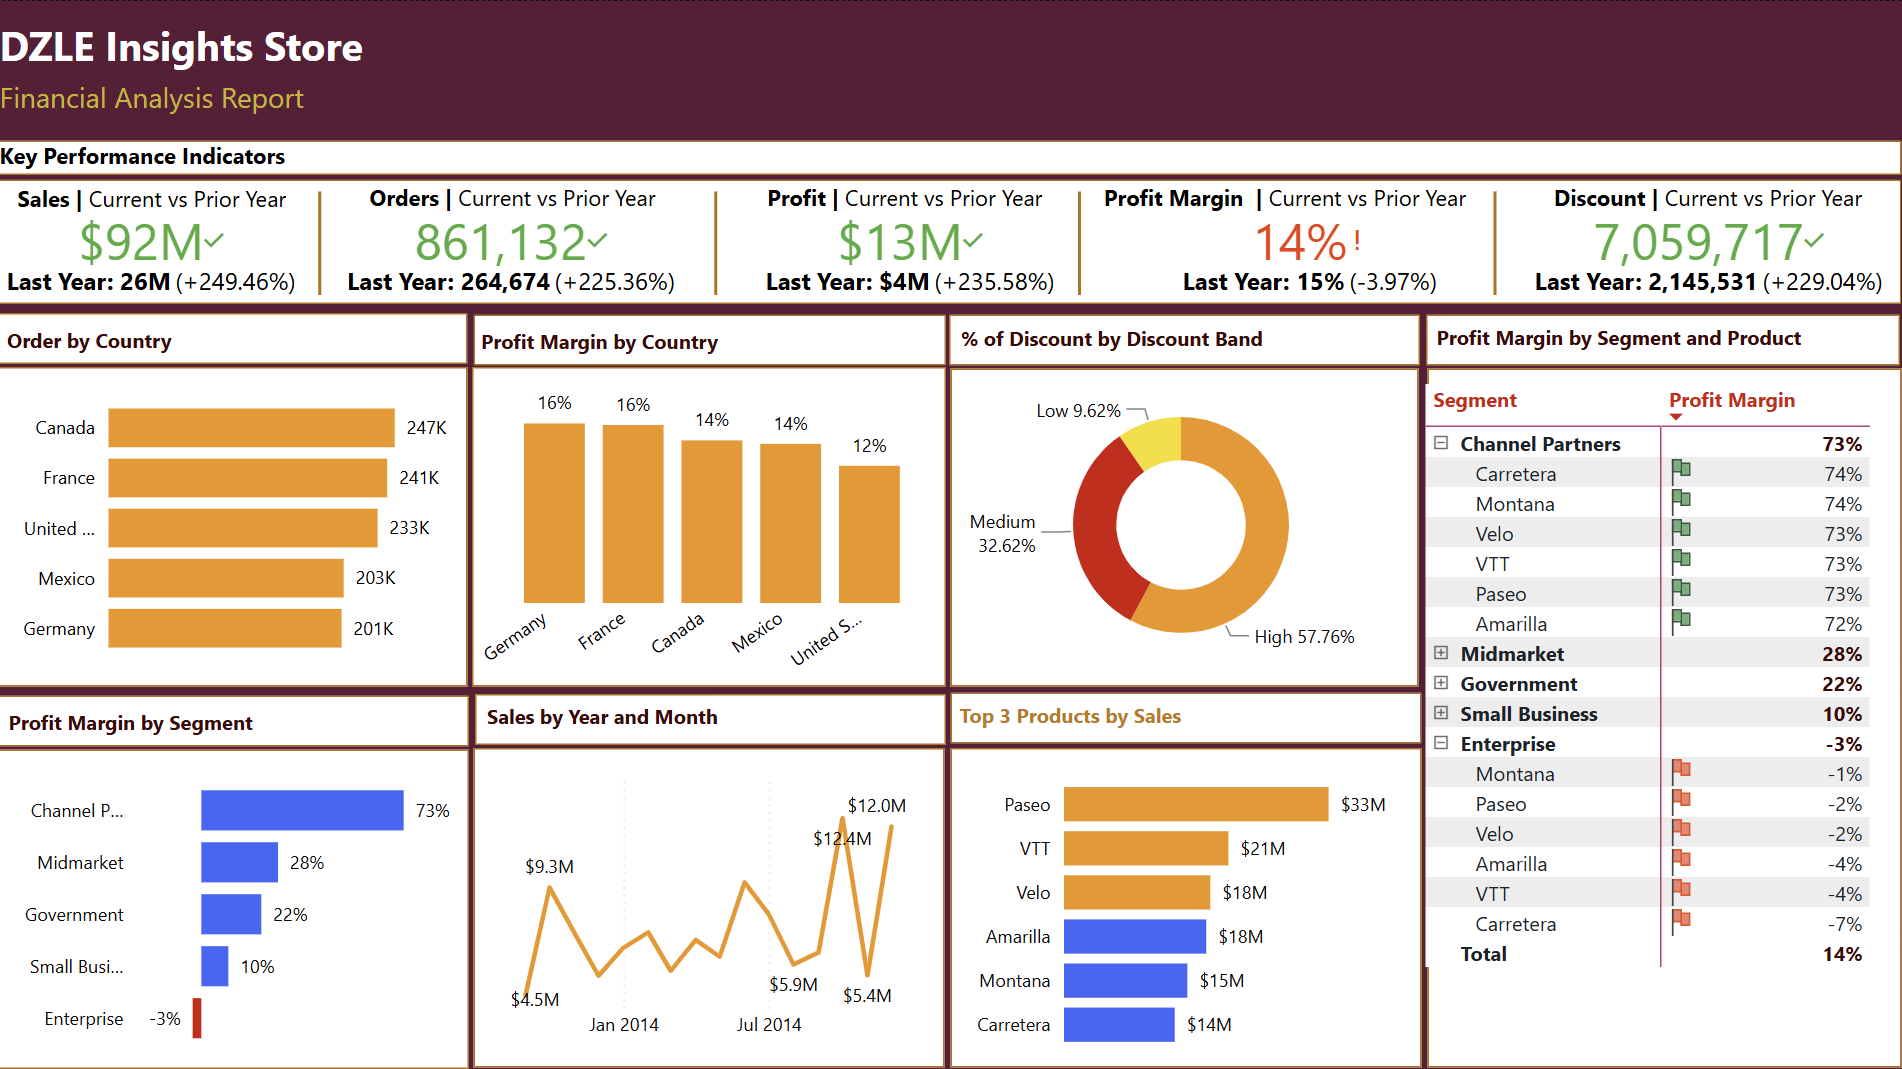

Layout of this report page (visuals, bound fields, positions):
{"tool":"powerbi","page":{"name":"Sales Performance","canvas":[1280,720],"ordinal":0},"visuals":[{"type":"shape","box":[3,93,1270,23],"z":0},{"type":"shape","box":[2,119,1271,83],"z":1000},{"type":"shape","box":[3,208.2,313.8,34.2],"z":2000},{"type":"shape","box":[320.8,209.2,314.8,34.2],"z":3000},{"type":"shape","box":[637.7,209.2,314.8,34.2],"z":4000},{"type":"shape","box":[956,209,316,34],"z":5000},{"type":"shape","box":[3,244,314,213],"z":6000},{"type":"shape","box":[320,244,316,213],"z":7000},{"type":"shape","box":[639,245,312,212],"z":8000},{"type":"shape","box":[957,245,316,466],"z":9000},{"type":"textbox","box":[0,5.9,308.3,45.7],"z":10000},{"type":"textbox","box":[0,45.7,249.7,41],"z":11000},{"type":"textbox","box":[0,87,250,41],"z":12000},{"type":"kpi","fields":{"Indicator":["Analysis.Sales Amount"],"TrendLine":["Dates Table.Year"],"Goal":["Analysis.Sales Amount LY"]},"box":[3.1,137.4,205.8,64.1],"z":13000},{"type":"textbox","box":[4.1,115.8,204.7,41.4],"z":14000},{"type":"shape","box":[165,127,107,69],"z":15000},{"type":"kpi","fields":{"TrendLine":["Dates Table.Year"],"Indicator":["Analysis.Orders"],"Goal":["Analysis.Orders LY"]},"box":[216.6,137.4,258.5,64.1],"z":16000},{"type":"textbox","box":[218.2,114.8,257.4,41.4],"z":17000},{"type":"shape","box":[434,127,97,69],"z":18000},{"type":"kpi","fields":{"TrendLine":["Dates Table.Year"],"Goal":["Analysis.Profit LY"],"Indicator":["Analysis.Profit"]},"box":[482.8,137.4,258.5,64.1],"z":19000},{"type":"textbox","box":[479.7,114.8,257.4,41.4],"z":20000},{"type":"shape","box":[677,127,96,69],"z":21000},{"type":"kpi","fields":{"TrendLine":["Dates Table.Year"],"Goal":["Analysis.Profit Margin LY"],"Indicator":["Analysis.Profit Margin"]},"box":[749.1,137.4,258.5,64.1],"z":22000},{"type":"textbox","box":[733.1,114.8,257.4,41.4],"z":23000},{"type":"kpi","fields":{"TrendLine":["Dates Table.Year"],"Indicator":["Analysis.Discount Offered"],"Goal":["Analysis.Discount Offered LY"]},"box":[1015.3,137.4,258.5,64.1],"z":24000},{"type":"textbox","box":[1015.3,114.8,257.4,41.4],"z":25000},{"type":"shape","box":[954,127,96,69],"z":26000},{"type":"barChart","fields":{"Category":["financials.Country"],"Y":["Analysis.Orders"]},"box":[4,245.4,304.7,204.2],"z":27000},{"type":"textbox","box":[5,211.2,303.7,31.2],"z":28000},{"type":"clusteredColumnChart","fields":{"Y":["Analysis.Profit Margin"],"Category":["financials.Country"]},"box":[319,242,314,215],"z":29000},{"type":"textbox","box":[320.8,212.2,311.8,31.2],"z":30000},{"type":"textbox","box":[640.7,210.2,311.8,31.2],"z":31000},{"type":"donutChart","fields":{"Category":["financials.Discount Band"],"Y":["Analysis.Discount Offered"]},"box":[642,247,302,204],"z":32000},{"type":"shape","box":[4,463,314,34],"z":33000},{"type":"shape","box":[4,499,314,213],"z":34000},{"type":"shape","box":[322,462,314,34],"z":35000},{"type":"shape","box":[321,498,314,213],"z":36000},{"type":"shape","box":[639,461,314,34],"z":37000},{"type":"shape","box":[639,498,314,213],"z":38000},{"type":"barChart","fields":{"Category":["financials.Segment"],"Y":["Analysis.Profit Margin"]},"box":[6,499,313,212],"z":39000},{"type":"textbox","box":[6,466,304,31],"z":40000},{"type":"barChart","fields":{"Category":["financials.Product"],"Y":["Analysis.Sales Amount"]},"box":[647,499,300,212],"z":41000},{"type":"textbox","box":[325,462,304,31],"z":42000},{"type":"textbox","box":[640,461,304,31],"z":43000},{"type":"lineChart","fields":{"Category":["Dates Table.Date.Variation.Date Hierarchy.Year","Dates Table.Date.Variation.Date Hierarchy.Month"],"Y":["Analysis.Sales Amount"]},"box":[327,506,300,194],"z":44000},{"type":"pivotTable","fields":{"Rows":["financials.Segment","financials.Product"],"Values":["Analysis.Profit Margin"]},"box":[951,250,313,461],"z":45000},{"type":"textbox","box":[958,209,311,31],"z":46000}]}

Visuals, with their boxes in screenshot pixels (x1, y1, x2, y2), scaled from the page's 1280x720 canvas onto the 1902x1069 screenshot:
shape: [x1=4, y1=138, x2=1892, y2=172]
shape: [x1=3, y1=177, x2=1892, y2=300]
shape: [x1=4, y1=309, x2=471, y2=360]
shape: [x1=477, y1=311, x2=944, y2=361]
shape: [x1=948, y1=311, x2=1415, y2=361]
shape: [x1=1421, y1=310, x2=1890, y2=361]
shape: [x1=4, y1=362, x2=471, y2=679]
shape: [x1=476, y1=362, x2=945, y2=679]
shape: [x1=950, y1=364, x2=1413, y2=679]
shape: [x1=1422, y1=364, x2=1892, y2=1056]
textbox: [x1=0, y1=9, x2=458, y2=77]
textbox: [x1=0, y1=68, x2=371, y2=129]
textbox: [x1=0, y1=129, x2=371, y2=190]
kpi - Analysis.Sales Amount x Dates Table.Year: [x1=5, y1=204, x2=310, y2=299]
textbox: [x1=6, y1=172, x2=310, y2=233]
shape: [x1=245, y1=189, x2=404, y2=291]
kpi - Dates Table.Year x Analysis.Orders: [x1=322, y1=204, x2=706, y2=299]
textbox: [x1=324, y1=170, x2=707, y2=232]
shape: [x1=645, y1=189, x2=789, y2=291]
kpi - Dates Table.Year x Analysis.Profit LY: [x1=717, y1=204, x2=1102, y2=299]
textbox: [x1=713, y1=170, x2=1095, y2=232]
shape: [x1=1006, y1=189, x2=1149, y2=291]
kpi - Dates Table.Year x Analysis.Profit Margin LY: [x1=1113, y1=204, x2=1497, y2=299]
textbox: [x1=1089, y1=170, x2=1472, y2=232]
kpi - Dates Table.Year x Analysis.Discount Offered: [x1=1509, y1=204, x2=1893, y2=299]
textbox: [x1=1509, y1=170, x2=1891, y2=232]
shape: [x1=1418, y1=189, x2=1560, y2=291]
barChart - financials.Country x Analysis.Orders: [x1=6, y1=364, x2=459, y2=668]
textbox: [x1=7, y1=314, x2=459, y2=360]
clusteredColumnChart - Analysis.Profit Margin x financials.Country: [x1=474, y1=359, x2=941, y2=679]
textbox: [x1=477, y1=315, x2=940, y2=361]
textbox: [x1=952, y1=312, x2=1415, y2=358]
donutChart - financials.Discount Band x Analysis.Discount Offered: [x1=954, y1=367, x2=1403, y2=670]
shape: [x1=6, y1=687, x2=473, y2=738]
shape: [x1=6, y1=741, x2=473, y2=1057]
shape: [x1=478, y1=686, x2=945, y2=736]
shape: [x1=477, y1=739, x2=944, y2=1056]
shape: [x1=950, y1=684, x2=1416, y2=735]
shape: [x1=950, y1=739, x2=1416, y2=1056]
barChart - financials.Segment x Analysis.Profit Margin: [x1=9, y1=741, x2=474, y2=1056]
textbox: [x1=9, y1=692, x2=461, y2=738]
barChart - financials.Product x Analysis.Sales Amount: [x1=961, y1=741, x2=1407, y2=1056]
textbox: [x1=483, y1=686, x2=935, y2=732]
textbox: [x1=951, y1=684, x2=1403, y2=730]
lineChart - Dates Table.Date.Variation.Date Hierarchy.Year x Dates Table.Date.Variation.Date Hierarchy.Month: [x1=486, y1=751, x2=932, y2=1039]
pivotTable - financials.Segment x financials.Product: [x1=1413, y1=371, x2=1878, y2=1056]
textbox: [x1=1424, y1=310, x2=1886, y2=356]
